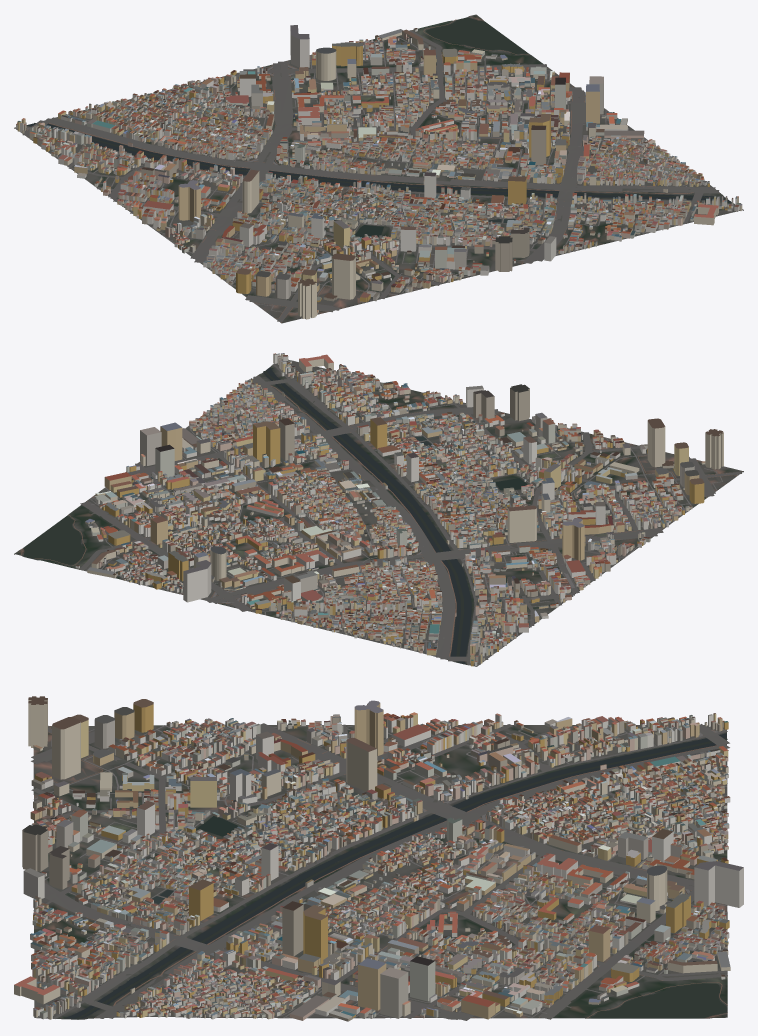
The picture shows the model from 3 angles, top to bottom: view 1: azimuth 30°, elevation 25°; view 2: azimuth 150°, elevation 25°; view 3: azimuth 270°, elevation 25°; orthographic projection. The views are drawn at different scales.
Visible parts, largest first — view 1: buildings, ground, roads, water; view 2: buildings, ground, roads, water; view 3: buildings, ground, roads, water.
Boxes of the visible parts, left/top/right/bottom form: buildings: left=16, top=25, right=742, bottom=319; ground: left=14, top=14, right=743, bottom=323; roads: left=16, top=16, right=742, bottom=322; water: left=26, top=17, right=731, bottom=237; buildings: left=75, top=353, right=723, bottom=666; ground: left=14, top=359, right=743, bottom=666; roads: left=21, top=360, right=742, bottom=664; water: left=23, top=367, right=527, bottom=664; buildings: left=14, top=696, right=743, bottom=1021; ground: left=33, top=724, right=727, bottom=1019; roads: left=31, top=723, right=729, bottom=1020; water: left=64, top=733, right=727, bottom=1019.
Bounding box in the file's own units: 1430 × 117 × 1476.
